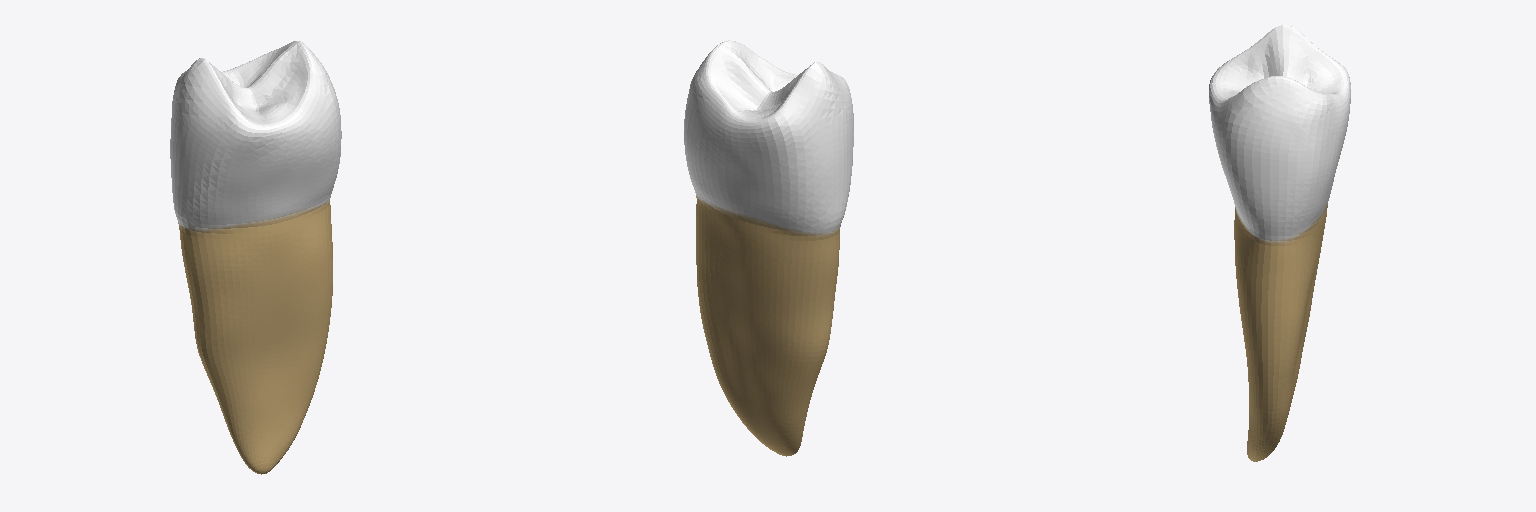
3 views of the same model, side by side, from view 1: azimuth 30°, elevation 25°; view 2: azimuth 150°, elevation 25°; view 3: azimuth 270°, elevation 25° (orthographic).
Parts seen in each view (by area): view 1: outer; view 2: outer; view 3: outer.
Boxes of the visible parts, box(x1,y1,x2,y2) form: outer: box(170, 41, 341, 474); outer: box(684, 40, 853, 456); outer: box(1209, 25, 1350, 461).
Bounding box in the file's own units: 3.67 × 9.51 × 2.97.
2 materials, 1 textured.